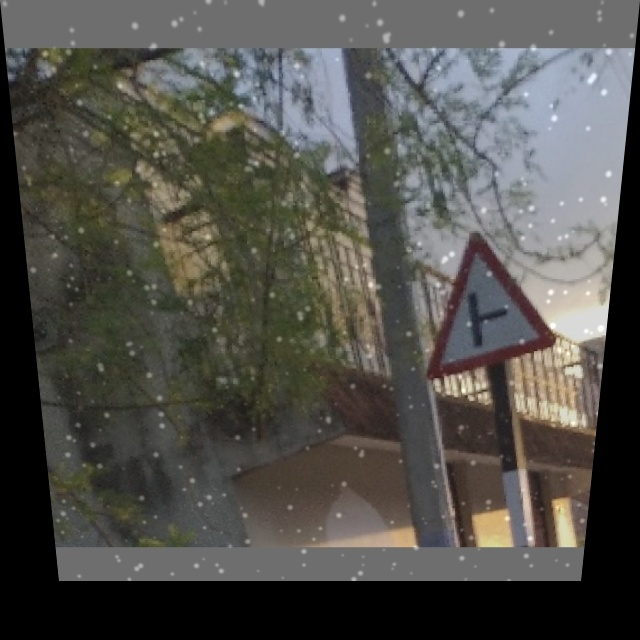Side_Road_Right: (421, 225, 574, 382)
